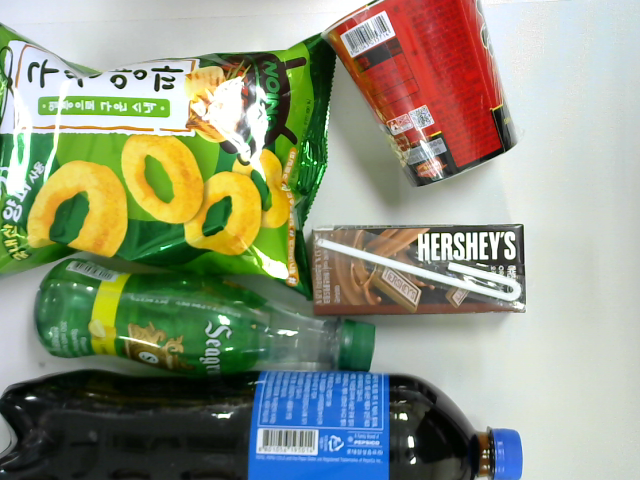Grilled_Onions: (1, 18, 337, 300)
Hush_Choco_Drink: (307, 221, 530, 315)
Pepsi_Cola_1.5L: (1, 371, 528, 480)
Seagram_Lemon_Carbonated_Water: (31, 261, 377, 375)
Sinramen_small: (320, 1, 522, 190)
